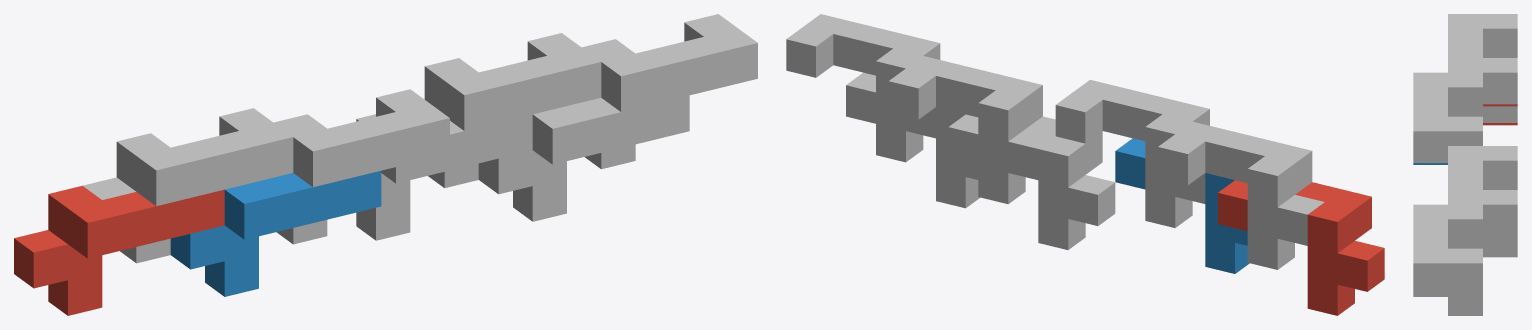
Rendered from tiling.obj.
3 views of the same model, side by side, from view 1: azimuth 30°, elevation 25°; view 2: azimuth 150°, elevation 25°; view 3: azimuth 270°, elevation 25° (orthographic). The views are drawn at different scales.
Parts seen in each view (by area): view 1: copy_1_domain_1, copy_1_domain_3, copy_1_domain_6, copy_1_domain_2, copy_1_domain_7, copy_1_domain_8, copy_1_domain_4, copy_1_domain_5; view 2: copy_1_domain_3, copy_1_domain_7, copy_1_domain_4, copy_1_domain_8, copy_1_domain_1, copy_1_domain_5, copy_1_domain_2, copy_1_domain_6; view 3: copy_1_domain_8, copy_1_domain_7, copy_1_domain_3, copy_1_domain_4, copy_1_domain_1, copy_1_domain_5, copy_1_domain_6.
Boxes of the visible parts, box(x1,y1,x2,y2) form: copy_1_domain_1: box(14, 185, 224, 315); copy_1_domain_3: box(83, 108, 293, 263); copy_1_domain_6: box(478, 95, 689, 221); copy_1_domain_2: box(170, 171, 381, 296); copy_1_domain_7: box(424, 33, 601, 188); copy_1_domain_8: box(582, 14, 757, 169); copy_1_domain_4: box(273, 89, 449, 244); copy_1_domain_5: box(356, 114, 532, 240); copy_1_domain_3: box(1158, 121, 1324, 269); copy_1_domain_7: box(888, 56, 1054, 204); copy_1_domain_4: box(1055, 79, 1209, 227); copy_1_domain_8: box(786, 14, 940, 162); copy_1_domain_1: box(1218, 180, 1384, 315); copy_1_domain_5: box(948, 114, 1115, 249); copy_1_domain_2: box(1115, 138, 1249, 273); copy_1_domain_6: box(846, 72, 980, 208); copy_1_domain_8: box(1413, 204, 1482, 313); copy_1_domain_7: box(1448, 146, 1517, 255); copy_1_domain_3: box(1448, 14, 1517, 122); copy_1_domain_4: box(1413, 72, 1482, 162); copy_1_domain_1: box(1483, 104, 1517, 125); copy_1_domain_5: box(1483, 236, 1517, 257); copy_1_domain_6: box(1413, 295, 1482, 315).
Bounding box in the file's own units: 20 × 4 × 3.
